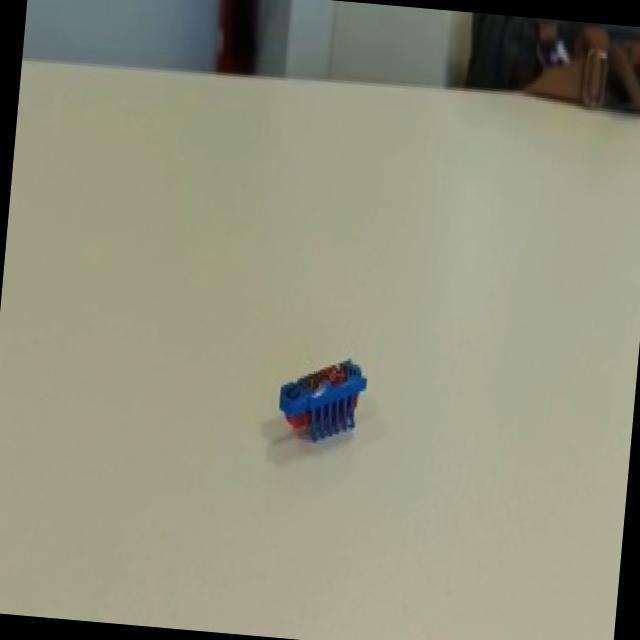1_NanoBug_Azul: (244, 328, 397, 463)
